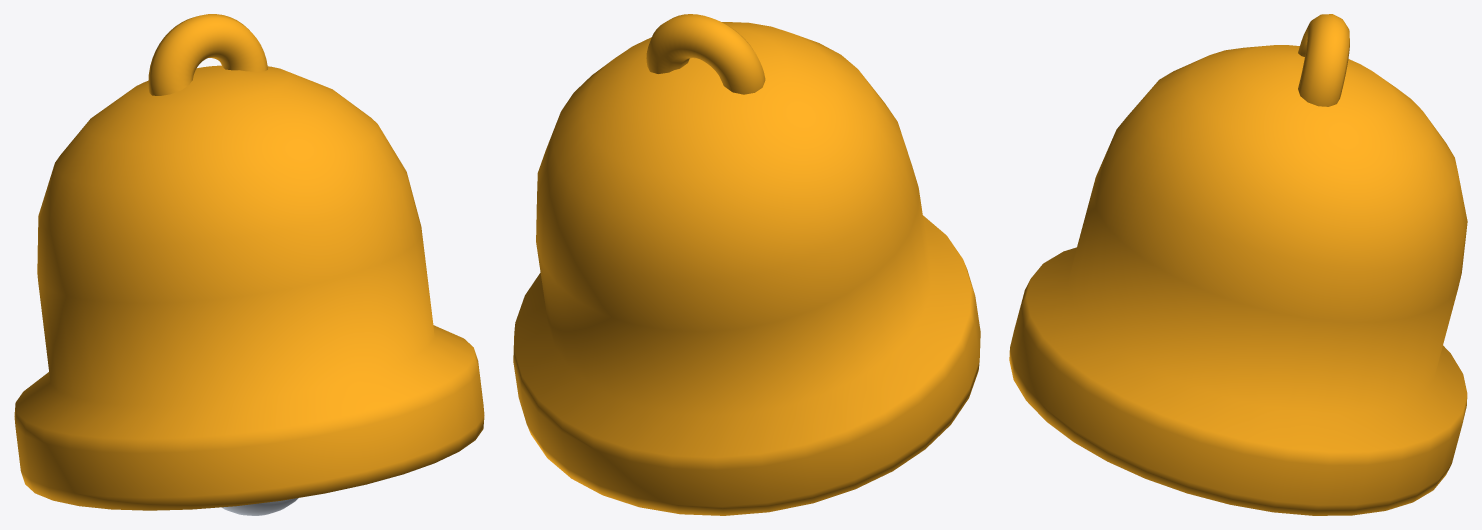
Rendered from Bell_motion.glb.
The picture shows the model from 3 angles, left to right: view 1: azimuth 30°, elevation 25°; view 2: azimuth 150°, elevation 25°; view 3: azimuth 270°, elevation 25°; orthographic projection. The views are drawn at different scales.
Parts seen in each view (by area): view 1: Body, Handle, Clapper; view 2: Body, Handle; view 3: Body, Handle.
Part boxes in pixels (x1,y1,x2,y2): Body: (14, 65, 484, 510); Handle: (148, 14, 267, 95); Clapper: (221, 498, 298, 515); Body: (513, 22, 980, 515); Handle: (646, 14, 765, 94); Body: (1009, 45, 1467, 515); Handle: (1298, 14, 1349, 106).
Size of what is drawn, in the model's own units: 3 by 3.22 by 3.
